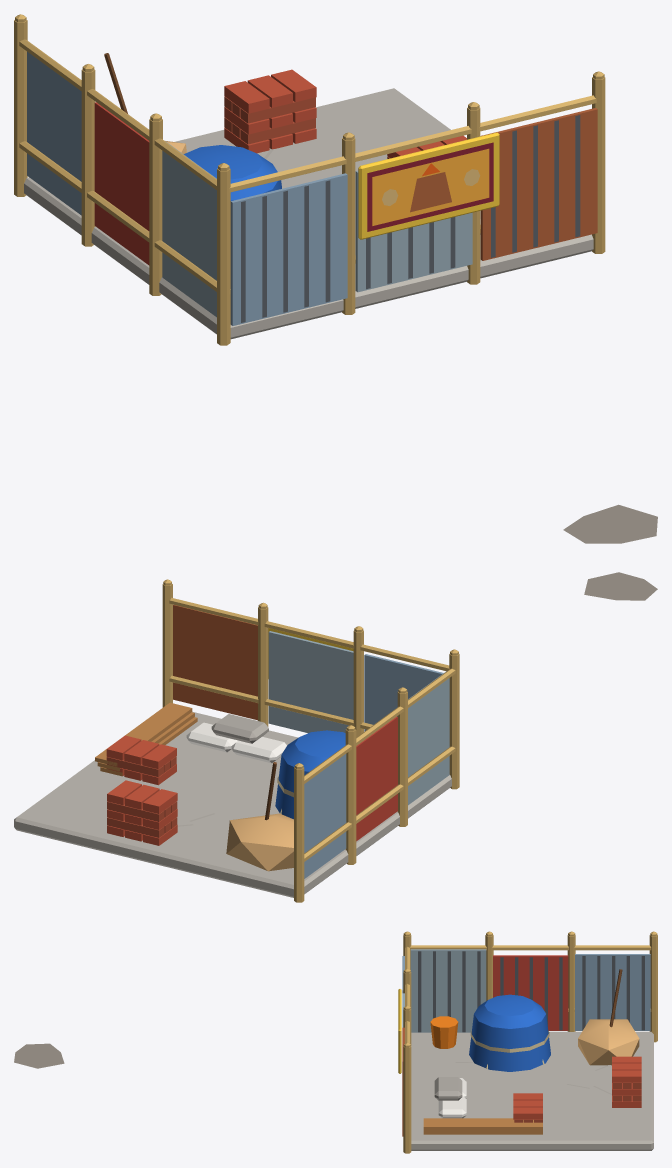
Rendered from tandoor_lock.glb.
The picture shows the model from 3 angles, top to bottom: view 1: azimuth 30°, elevation 25°; view 2: azimuth 150°, elevation 25°; view 3: azimuth 270°, elevation 25°; orthographic projection. The views are drawn at different scales.
Parts seen in each view (by area): view 1: tandoor_lock; view 2: tandoor_lock; view 3: tandoor_lock.
Boxes of the visible parts, <box> form: tandoor_lock: <box>14,14,657,543</box>; tandoor_lock: <box>14,572,657,902</box>; tandoor_lock: <box>14,931,657,1153</box>.
Bounding box in the file's own units: 3.29 × 1.48 × 7.84.
1 material, 1 textured.
